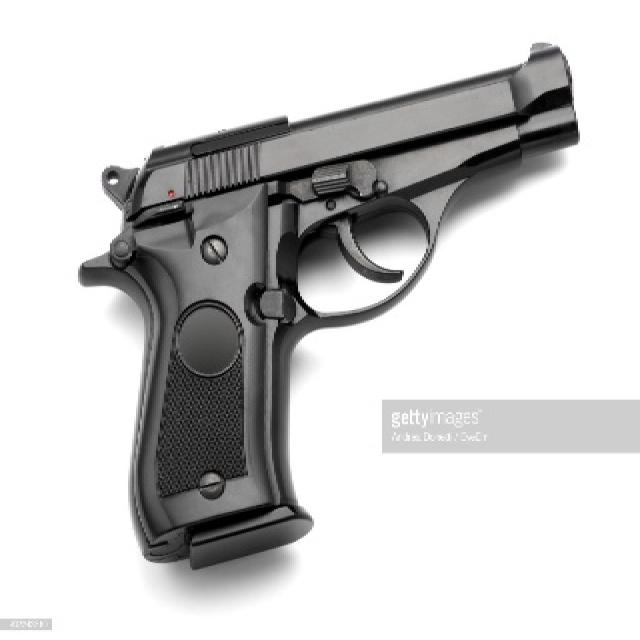handgun: (75, 41, 581, 568)
